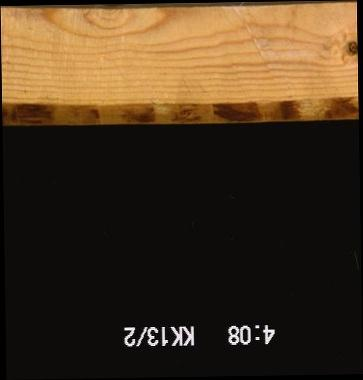dry_knot: (347, 39, 357, 57)
wave: (1, 90, 357, 123)
